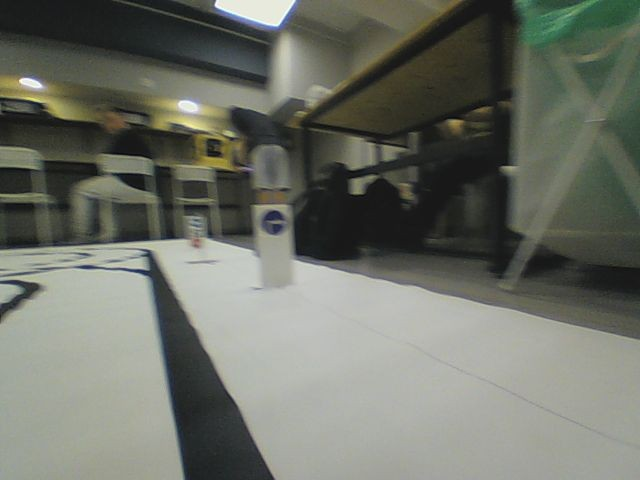Right: (260, 208, 288, 236)
